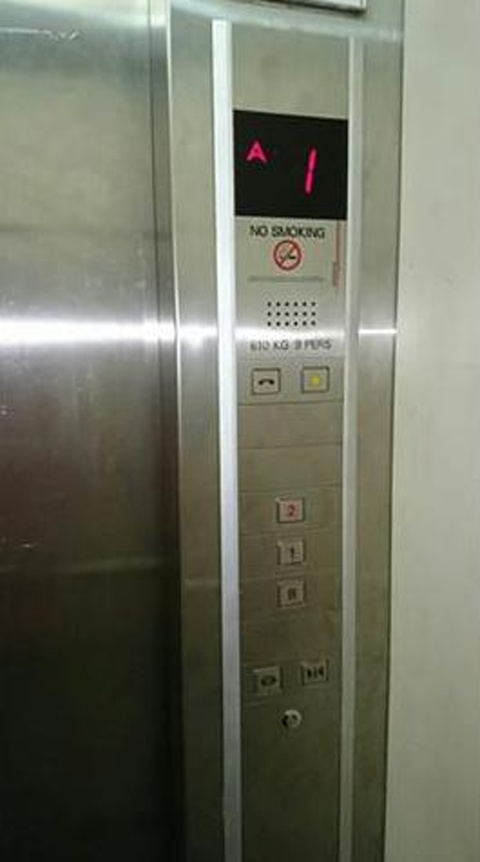1: (274, 535, 306, 565)
2: (275, 495, 307, 525)
alarm: (299, 366, 330, 393)
blur: (276, 577, 308, 607)
call: (251, 368, 282, 395)
close: (297, 656, 330, 685)
keyhole: (280, 709, 301, 731)
led: (232, 106, 349, 223)
open: (251, 665, 284, 694)
